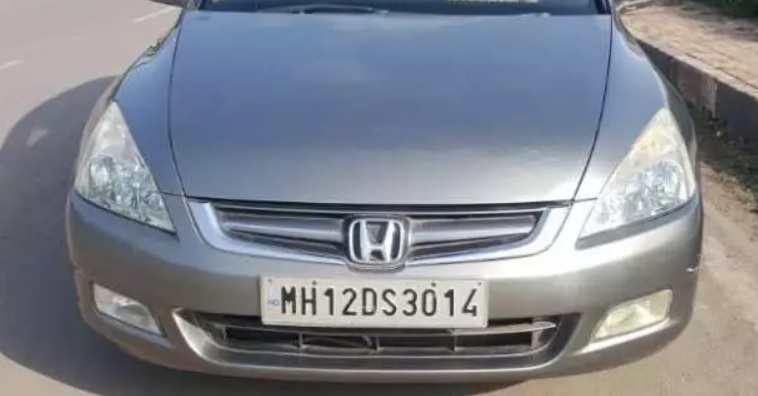licenseplate: (256, 269, 490, 334)
